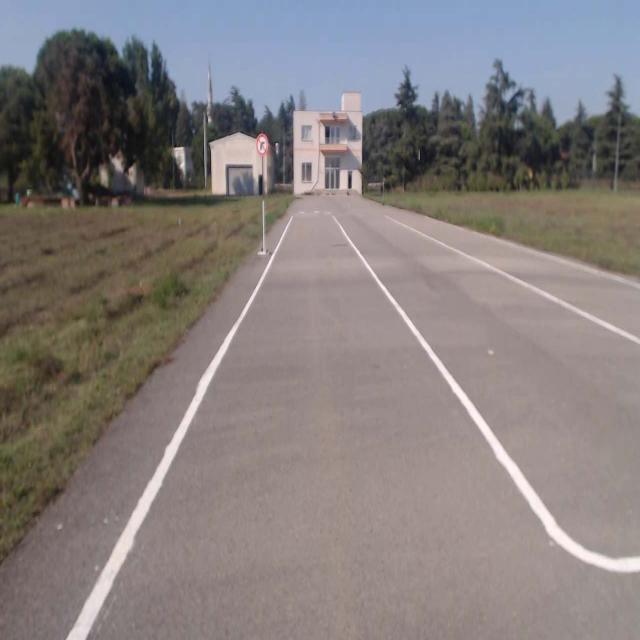sagadonulmez: (256, 134, 268, 156)
